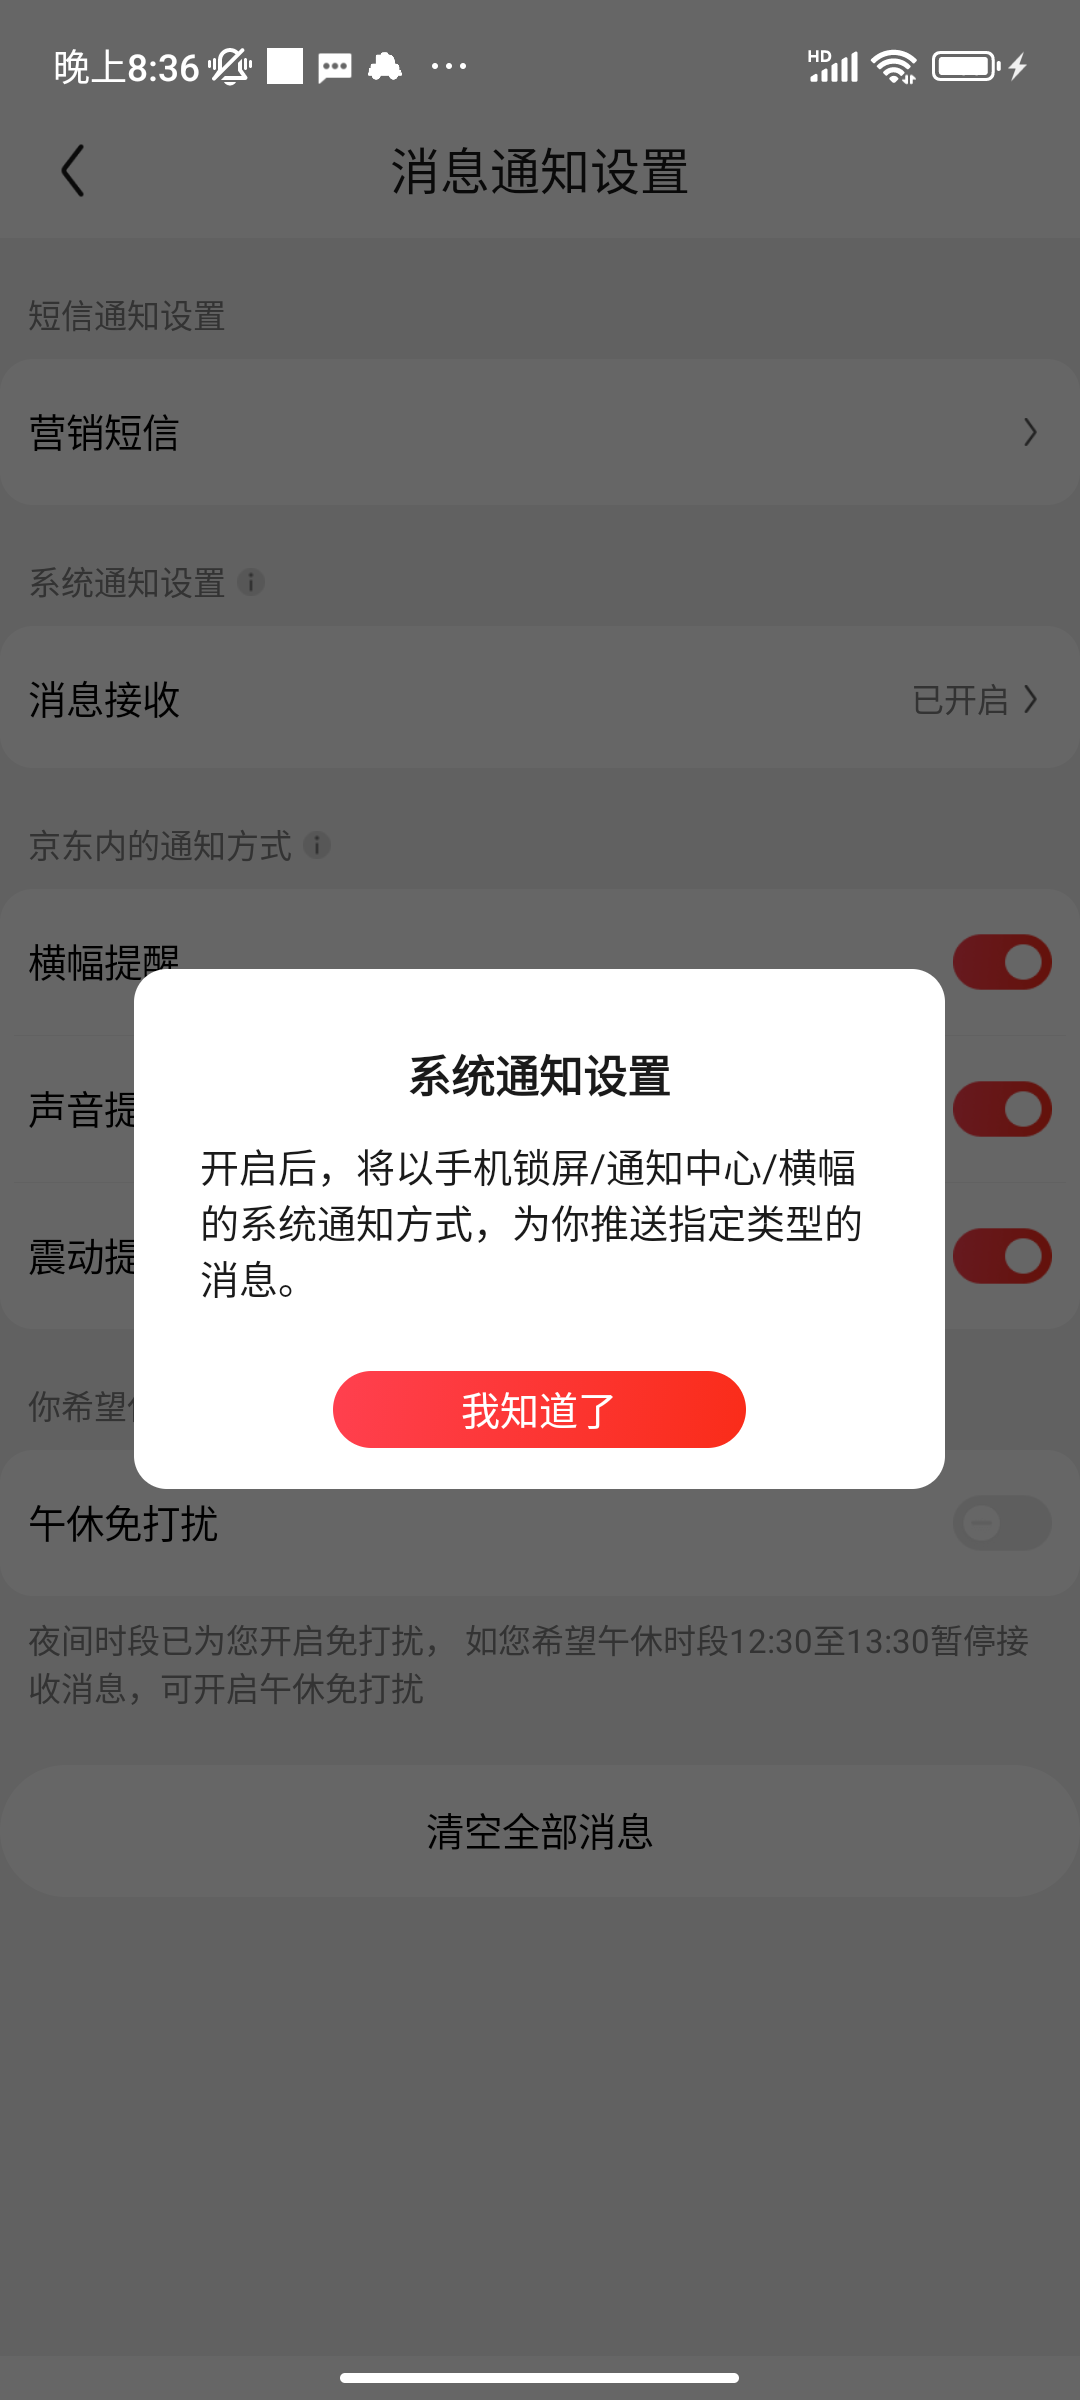ui_group: (128, 958, 948, 1488)
